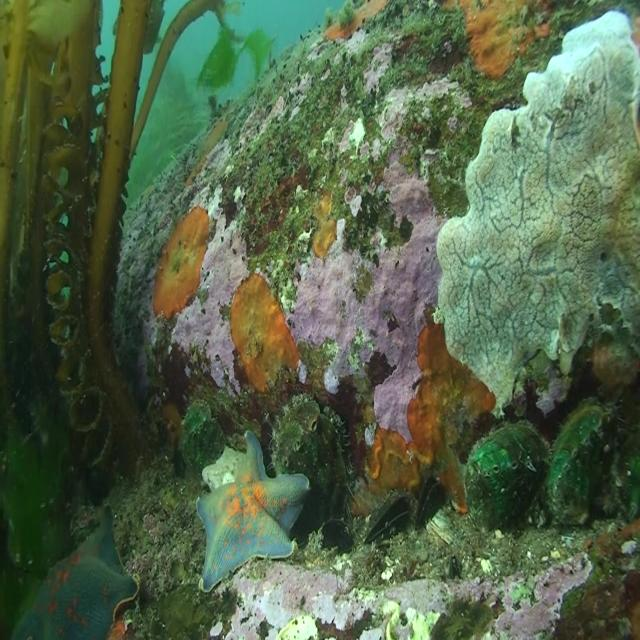starfish: (198, 427, 310, 596), (10, 501, 139, 640)
